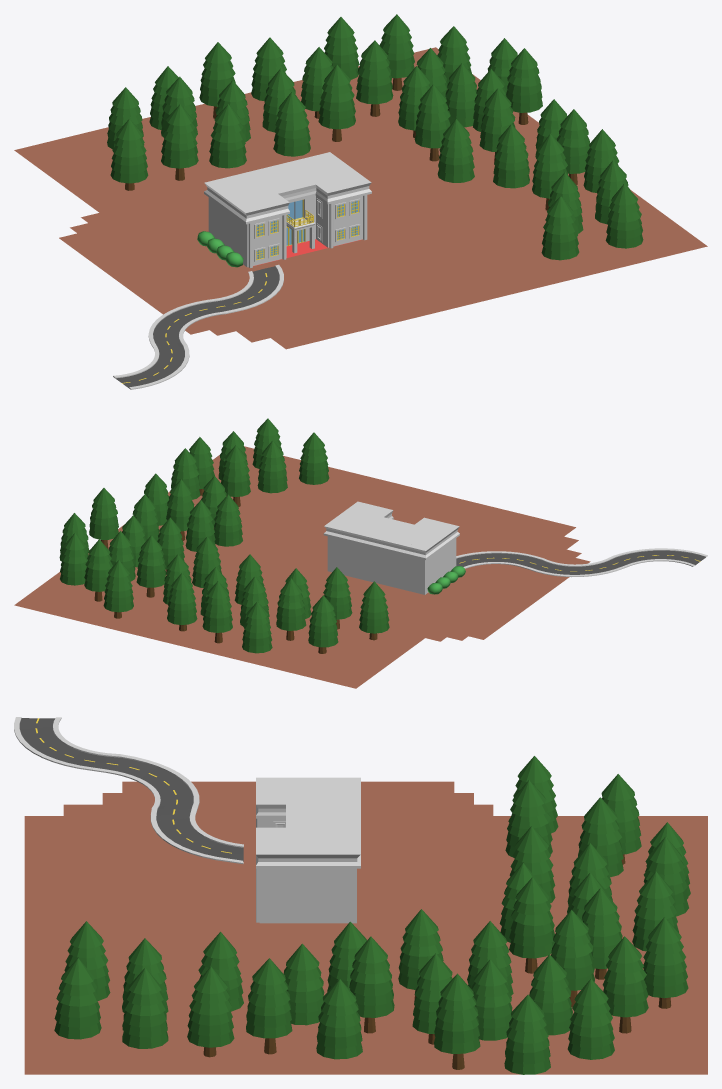
The model's file is Fase Mansao.fbx.
3 views of the same model, one above another, from view 1: azimuth 30°, elevation 25°; view 2: azimuth 150°, elevation 25°; view 3: azimuth 270°, elevation 25° (orthographic). The views are drawn at different scales.
Parts seen in each view (by area): view 1: Fase Mansao, Mansao, Rua Mansao, Arvore M.012, Arvore M.015, Arvore M.002, Arvore M.001, Arvore M.023, Arvore M.009, Arvore M.035, Arvore M.028, Arvore M.036 (+26 smaller); view 2: Fase Mansao, Mansao, Rua Mansao, Arvore M.004, Arvore M.015, Arvore M.008, Arvore M.003, Arvore M.001, Arvore M.011, Arvore M.016, Arvore M.023, Arvore M.032 (+26 smaller); view 3: Fase Mansao, Mansao, Rua Mansao, Arvore M.023, Arvore M.030, Arvore M.012, Arvore M.031, Arvore M.017, Arvore M.016, Arvore M.027, Arvore M.033, Arvore M.035 (+26 smaller).
Boxes of the visible parts, <box> form: Fase Mansao: <box>14,47,707,349</box>; Mansao: <box>204,152,371,267</box>; Rua Mansao: <box>113,264,283,389</box>; Arvore M.012: <box>318,65,355,141</box>; Arvore M.015: <box>356,40,393,116</box>; Arvore M.002: <box>161,104,198,180</box>; Arvore M.001: <box>110,119,148,190</box>; Arvore M.023: <box>506,48,542,124</box>; Arvore M.009: <box>273,92,310,156</box>; Arvore M.035: <box>605,184,643,248</box>; Arvore M.028: <box>493,124,529,188</box>; Arvore M.036: <box>541,196,579,260</box>; Fase Mansao: <box>14,446,590,688</box>; Mansao: <box>323,501,459,594</box>; Rua Mansao: <box>456,548,707,577</box>; Arvore M.004: <box>276,578,306,640</box>; Arvore M.015: <box>136,535,165,597</box>; Arvore M.008: <box>202,581,232,643</box>; Arvore M.003: <box>308,595,338,653</box>; Arvore M.001: <box>359,581,389,640</box>; Arvore M.011: <box>167,573,197,631</box>; Arvore M.016: <box>103,560,133,618</box>; Arvore M.023: <box>89,488,118,548</box>; Arvore M.032: <box>221,445,250,506</box>; Fase Mansao: <box>24,781,707,1074</box>; Mansao: <box>256,777,360,923</box>; Rua Mansao: <box>14,717,243,863</box>; Arvore M.023: <box>434,973,480,1069</box>; Arvore M.030: <box>246,958,292,1054</box>; Arvore M.012: <box>509,877,554,973</box>; Arvore M.031: <box>187,967,234,1057</box>; Arvore M.017: <box>602,936,648,1033</box>; Arvore M.016: <box>643,917,688,1008</box>; Arvore M.027: <box>349,936,394,1033</box>; Arvore M.033: <box>122,967,168,1048</box>; Arvore M.035: <box>54,958,101,1039</box>.
Bounding box in the file's own units: 5801 × 709 × 4679.
